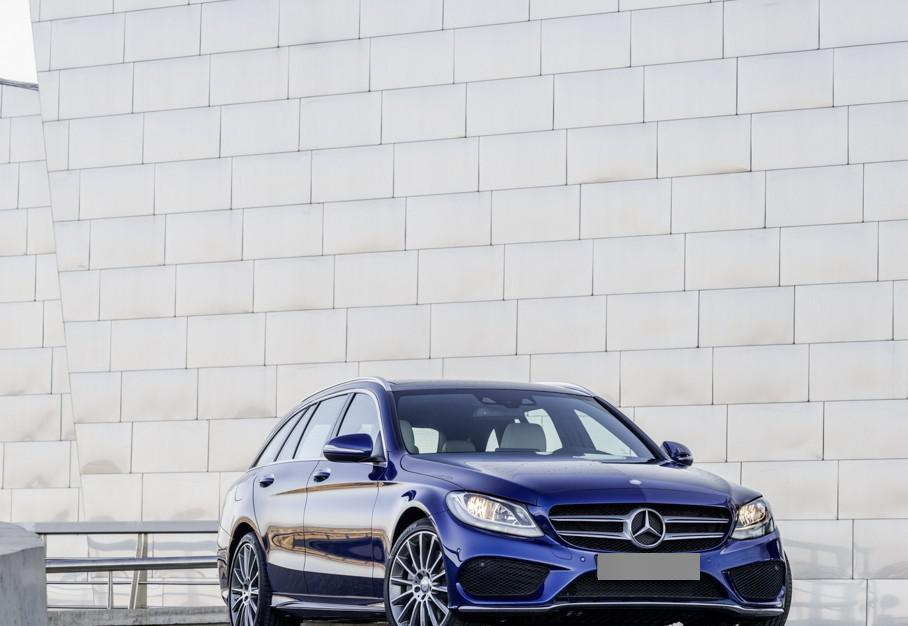Wagon: (217, 376, 792, 626)
